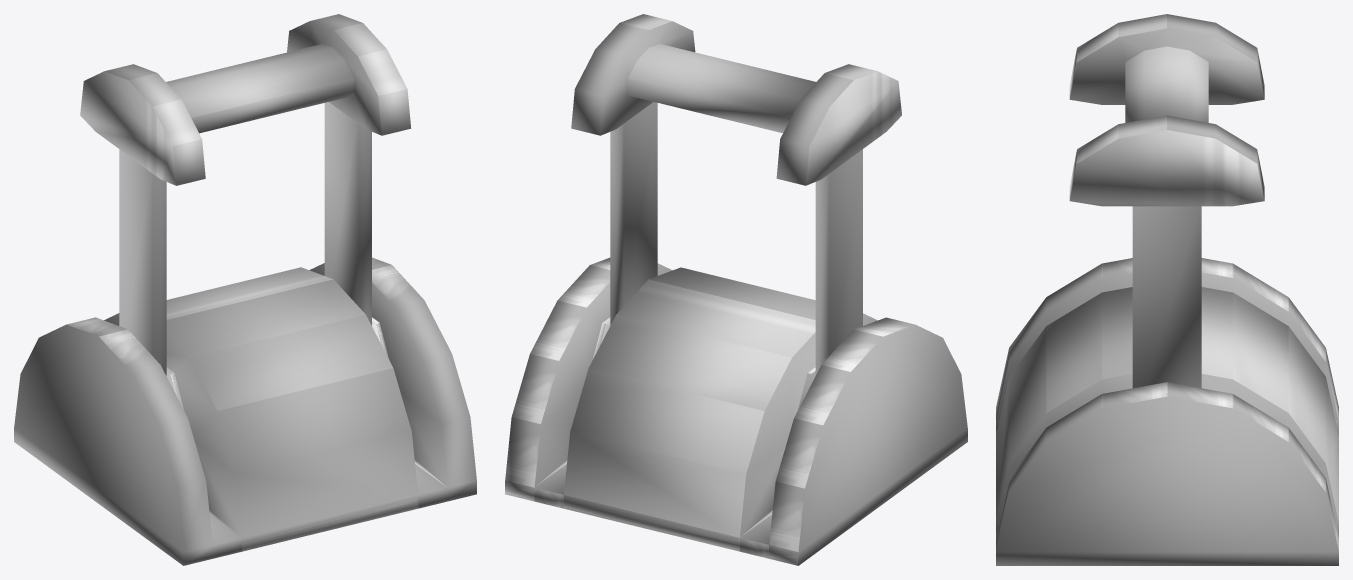
File: Lever.fbx
The picture shows the model from 3 angles, left to right: view 1: azimuth 30°, elevation 25°; view 2: azimuth 150°, elevation 25°; view 3: azimuth 270°, elevation 25°; orthographic projection.
Visible parts, largest first — view 1: lever, lever handle; view 2: lever, lever handle; view 3: lever, lever handle.
Part boxes in pixels (left/top/right/bottom): lever: left=14, top=257, right=476, bottom=565; lever handle: left=80, top=14, right=411, bottom=375; lever: left=505, top=257, right=967, bottom=565; lever handle: left=571, top=14, right=901, bottom=374; lever: left=996, top=258, right=1338, bottom=565; lever handle: left=1069, top=14, right=1264, bottom=388.
Bounding box in the file's own units: 20 × 27.14 × 20.
